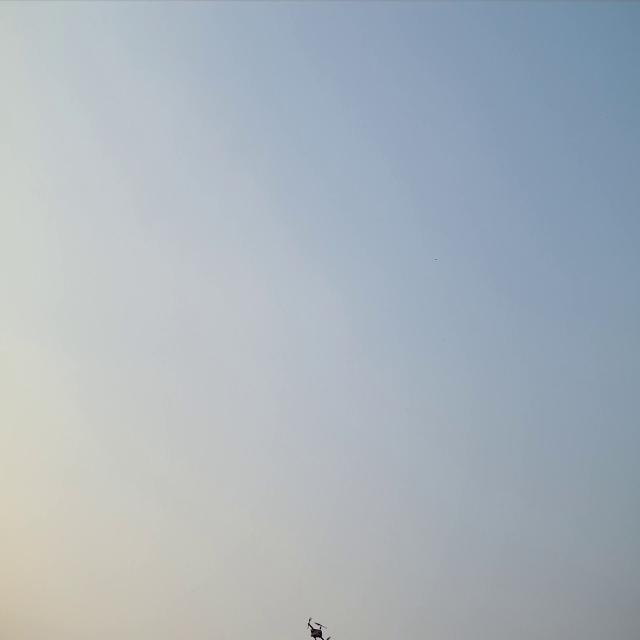UAV: (305, 616, 334, 640)
